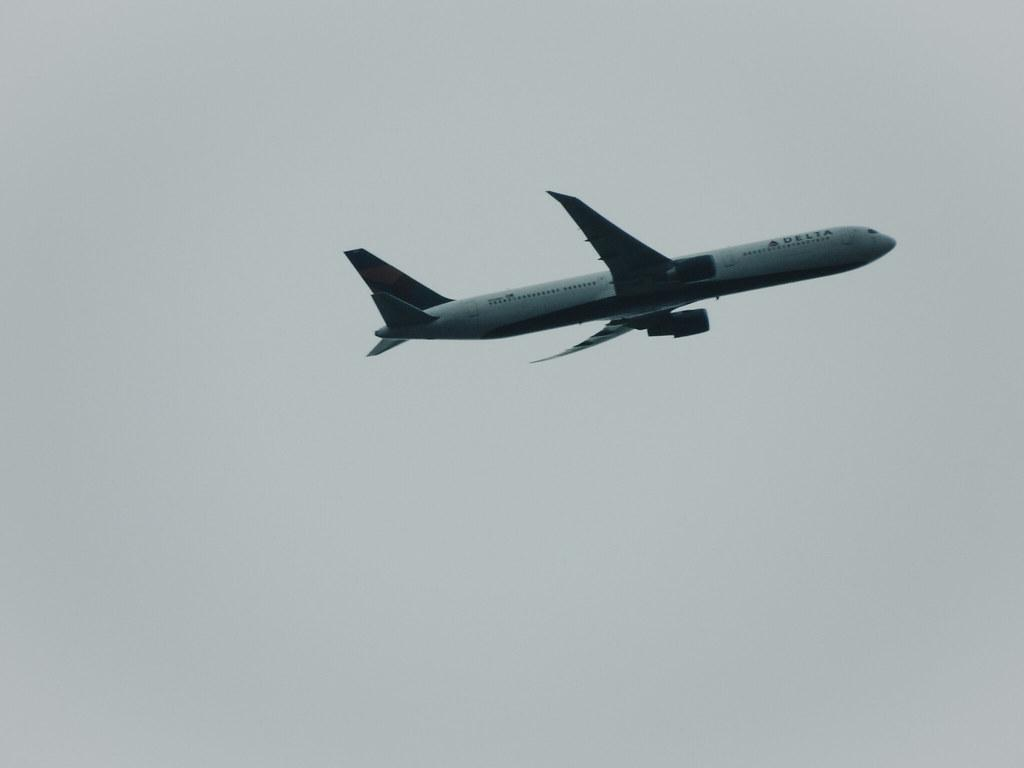plane: (342, 189, 898, 365)
